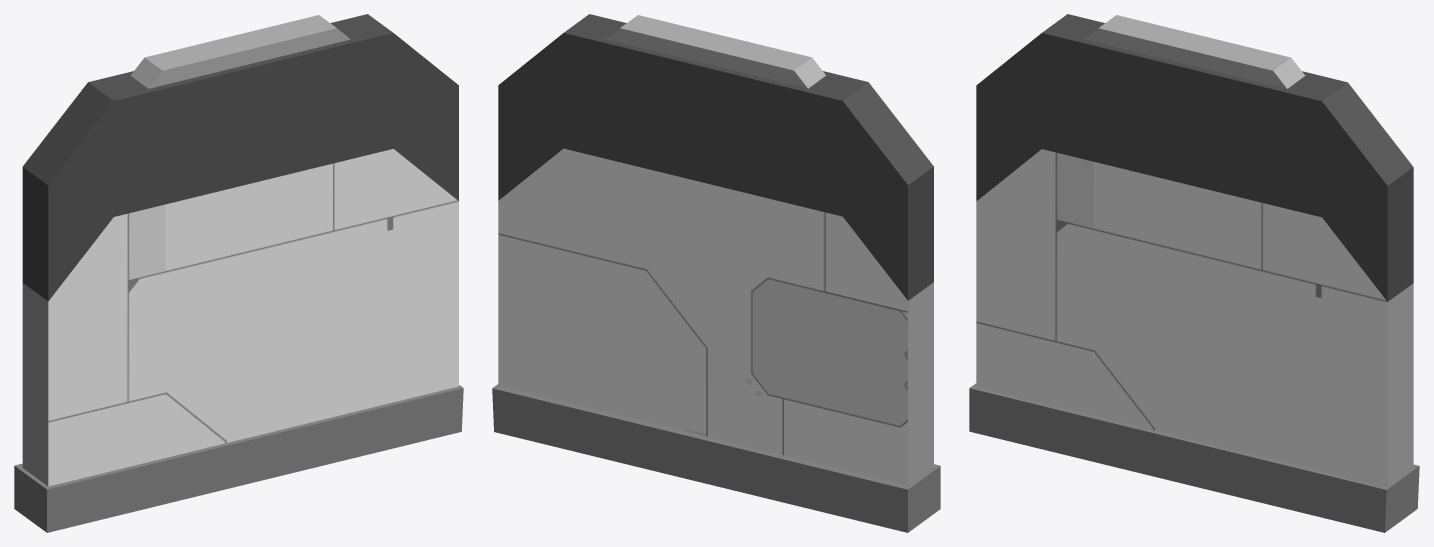
File: SM_Railing_3.fbx
The picture shows the model from 3 angles, left to right: view 1: azimuth 30°, elevation 25°; view 2: azimuth 150°, elevation 25°; view 3: azimuth 330°, elevation 25°; orthographic projection.
Parts seen in each view (by area): view 1: SM_Railing_3; view 2: SM_Railing_3; view 3: SM_Railing_3.
Part boxes in pixels (<box>): SM_Railing_3: <box>14,14,463,532</box>; SM_Railing_3: <box>492,14,940,532</box>; SM_Railing_3: <box>969,14,1419,532</box>.
Bounding box in the file's own units: 101 × 99.33 × 13.85.
